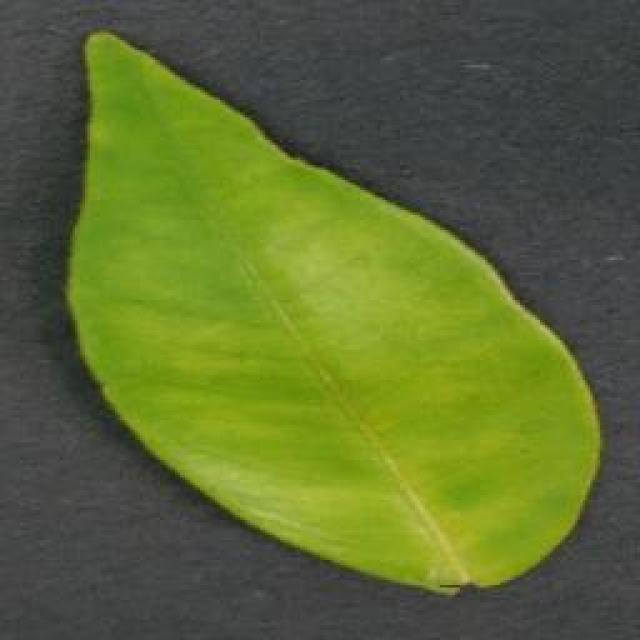Orange_Haunglongbing_Citrus_greening: (89, 126, 482, 524)
